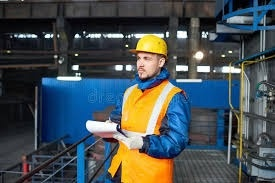helmet: (128, 33, 170, 61)
person with full safety: (103, 32, 190, 180)
safety vest: (120, 84, 179, 183)
